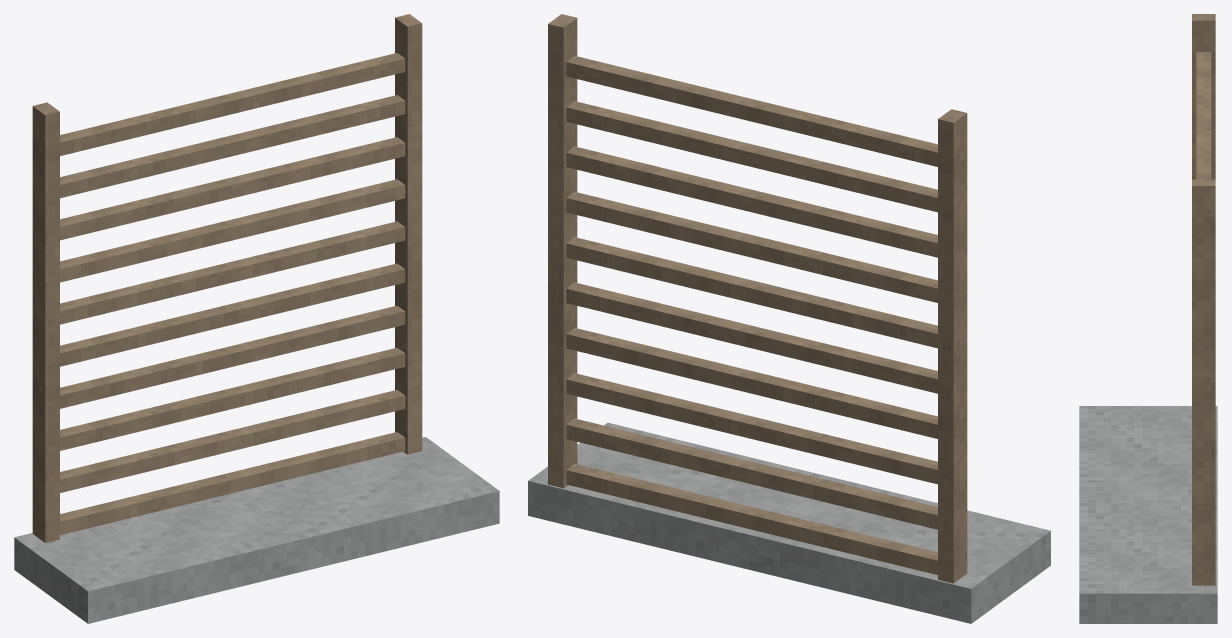
File: level_blockout_gym_wall_bars.glb
3 renders of one model, left to right at view 1: azimuth 30°, elevation 25°; view 2: azimuth 150°, elevation 25°; view 3: azimuth 270°, elevation 25°, orthographic. The views are drawn at different scales.
Parts seen in each view (by area): view 1: level_blockout_gym_wall_bars; view 2: level_blockout_gym_wall_bars; view 3: level_blockout_gym_wall_bars.
Part boxes in pixels (x1=…): level_blockout_gym_wall_bars: x1=14, y1=14, x2=499, y2=623; level_blockout_gym_wall_bars: x1=528, y1=14, x2=1050, y2=623; level_blockout_gym_wall_bars: x1=1079, y1=14, x2=1217, y2=623.
Bounding box in the file's own units: 2.25 × 2.41 × 0.7.
2 materials, 2 textured.
